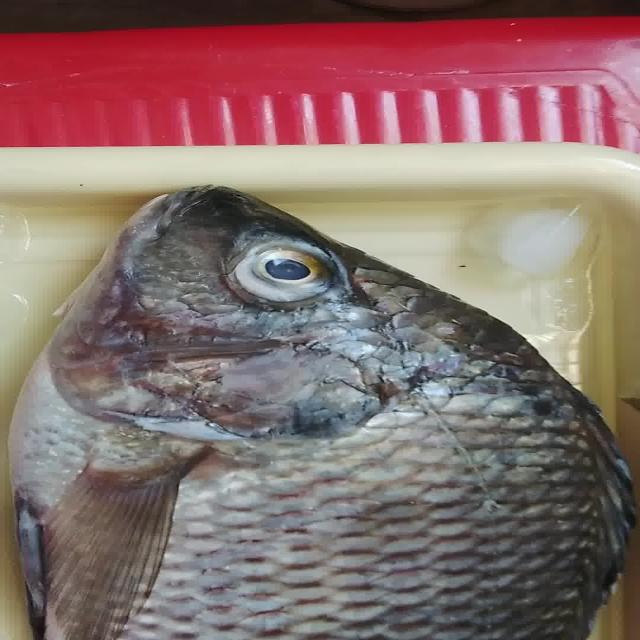Fresh: (53, 357, 639, 640), (212, 231, 376, 319)
